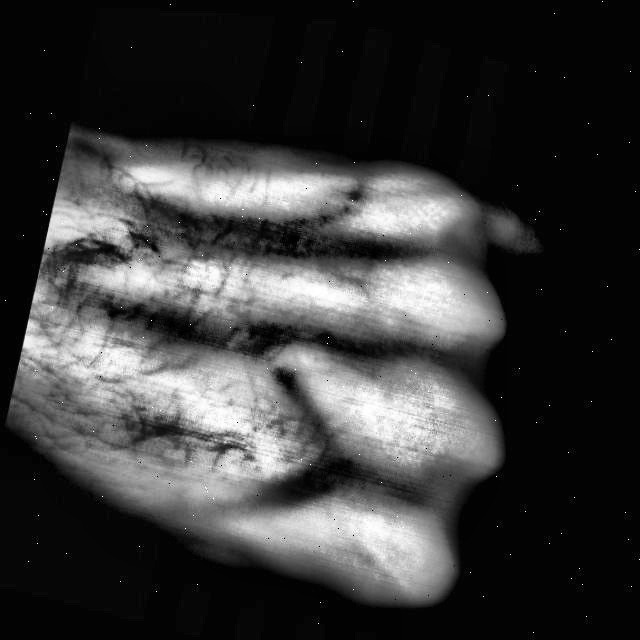Vein: (72, 264, 324, 385)
